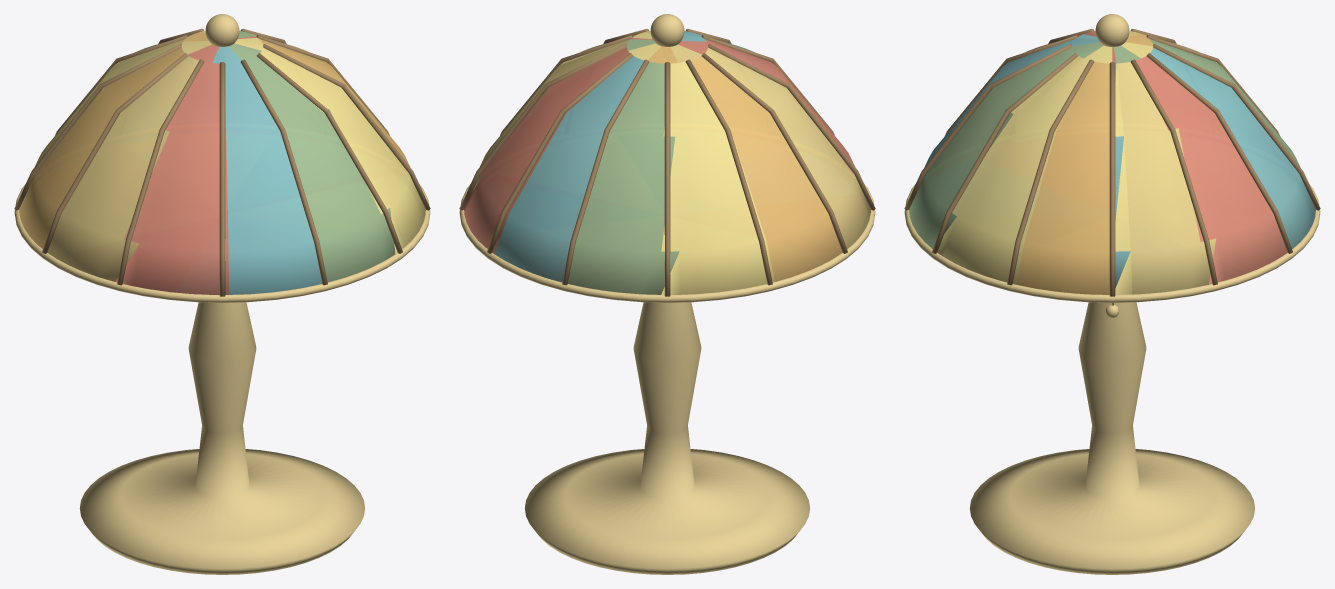
File: art-nouveau-desk-lamp.glb
The picture shows the model from 3 angles, left to right: view 1: azimuth 30°, elevation 25°; view 2: azimuth 150°, elevation 25°; view 3: azimuth 270°, elevation 25°; orthographic projection.
Parts seen in each view (by area): view 1: part1, part0, part13, part25; view 2: part1, part0, part13, part25; view 3: part1, part0, part13, part25.
Boxes of the visible parts, box(x1,y1,x2,y2) form: part1: box(19, 30, 425, 294); part0: box(79, 302, 365, 574); part13: box(14, 28, 430, 296); part25: box(14, 14, 430, 302); part1: box(464, 30, 870, 294); part0: box(524, 302, 810, 574); part13: box(459, 28, 875, 296); part25: box(459, 14, 875, 302); part1: box(909, 30, 1315, 294); part0: box(969, 302, 1255, 574); part13: box(904, 29, 1320, 305); part25: box(904, 14, 1320, 317).
Size of the model in its own units: 0.7514 by 1 by 0.7514.
4 materials, 4 textured.
